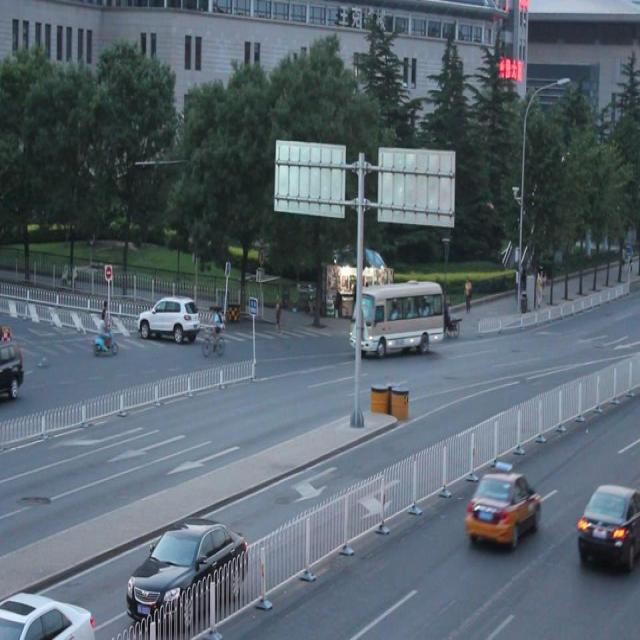car: (126, 518, 248, 632), (464, 462, 541, 550), (575, 482, 640, 566), (0, 590, 94, 640), (136, 294, 199, 344), (1, 333, 24, 401)
truck: (352, 283, 445, 356)
